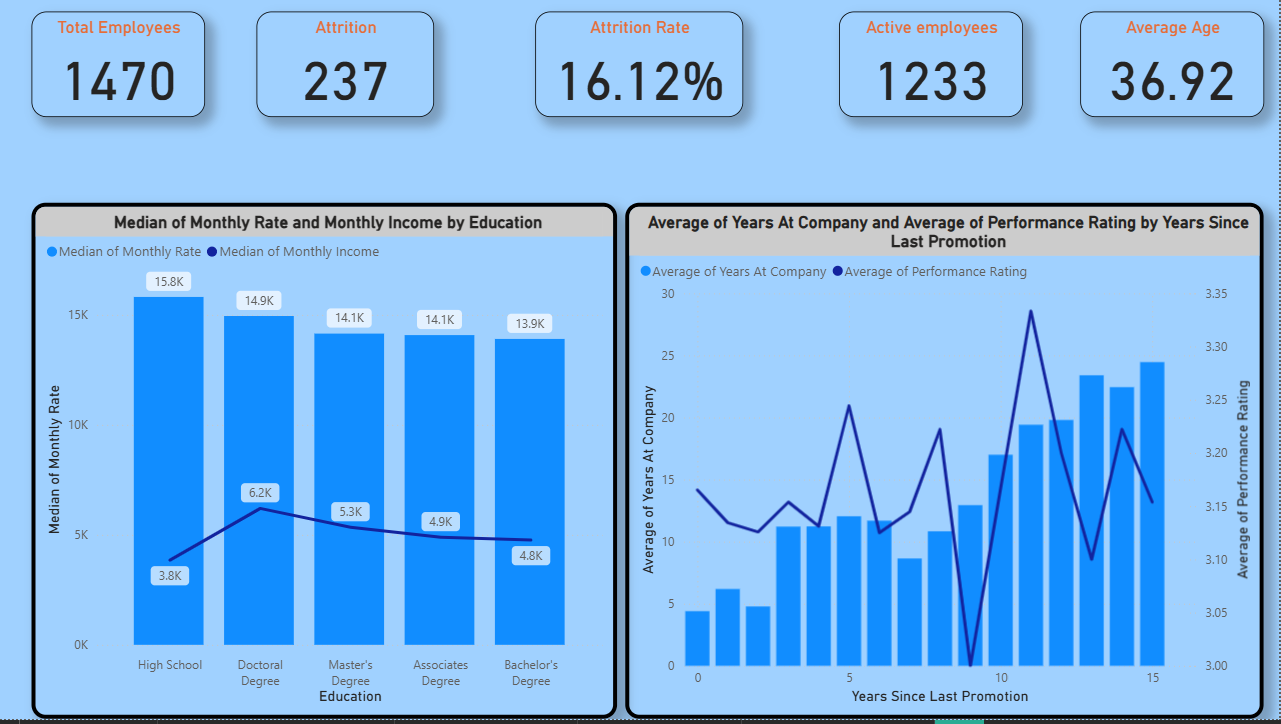

This screenshot's page, from the dashboard's own definition file:
{"tool":"powerbi","page":{"name":"Performance","canvas":[1280,720],"ordinal":0},"visuals":[{"type":"card","title":"Total Employees","fields":{"Values":["Sum(HR data.Employee Count)"]},"box":[32,12,173.3,105.3],"z":0},{"type":"card","title":"Attrition","fields":{"Values":["Sum(HR data.Attrition Count)"]},"box":[257.3,12,177.3,105.3],"z":1000},{"type":"card","title":"Attrition Rate","fields":{"Values":["HR data.ATTRITION RATE"]},"box":[536,12,208,105.3],"z":2000},{"type":"card","title":"Active employees","fields":{"Values":["HR data.ACTIVE EMPLOYEES"]},"box":[840,12,184,105.3],"z":3000},{"type":"card","title":"Average Age","fields":{"Values":["Avg(HR data.Age)"]},"box":[1081.3,12,184,105.3],"z":4000},{"type":"lineClusteredColumnComboChart","title":"Median of Monthly Rate and  Monthly Income by Education","fields":{"Category":["HR data.Education"],"Y":["Median(HR data.Monthly Rate)"],"Y2":["Median(HR data.Monthly Income)"]},"box":[32,204,585.3,516],"z":5000},{"type":"lineClusteredColumnComboChart","fields":{"Category":["HR data.Years Since Last Promotion"],"Y":["Avg(HR data.Years At Company)"],"Y2":["Avg(HR data.Performance Rating)"]},"box":[626.7,204,638.7,516],"z":6000}]}

Visuals, with their boxes in screenshot pixels (x1, y1, x2, y2), scaled from the page's 1280x720 canvas onto the 1281x724 screenshot:
"Total Employees" card: (x1=32, y1=12, x2=205, y2=118)
"Attrition" card: (x1=258, y1=12, x2=435, y2=118)
"Attrition Rate" card: (x1=536, y1=12, x2=745, y2=118)
"Active employees" card: (x1=841, y1=12, x2=1025, y2=118)
"Average Age" card: (x1=1082, y1=12, x2=1266, y2=118)
"Median of Monthly Rate and  Monthly Income by Education" lineClusteredColumnComboChart: (x1=32, y1=205, x2=618, y2=723)
lineClusteredColumnComboChart - HR data.Years Since Last Promotion x Avg(HR data.Years At Company): (x1=627, y1=205, x2=1266, y2=723)
